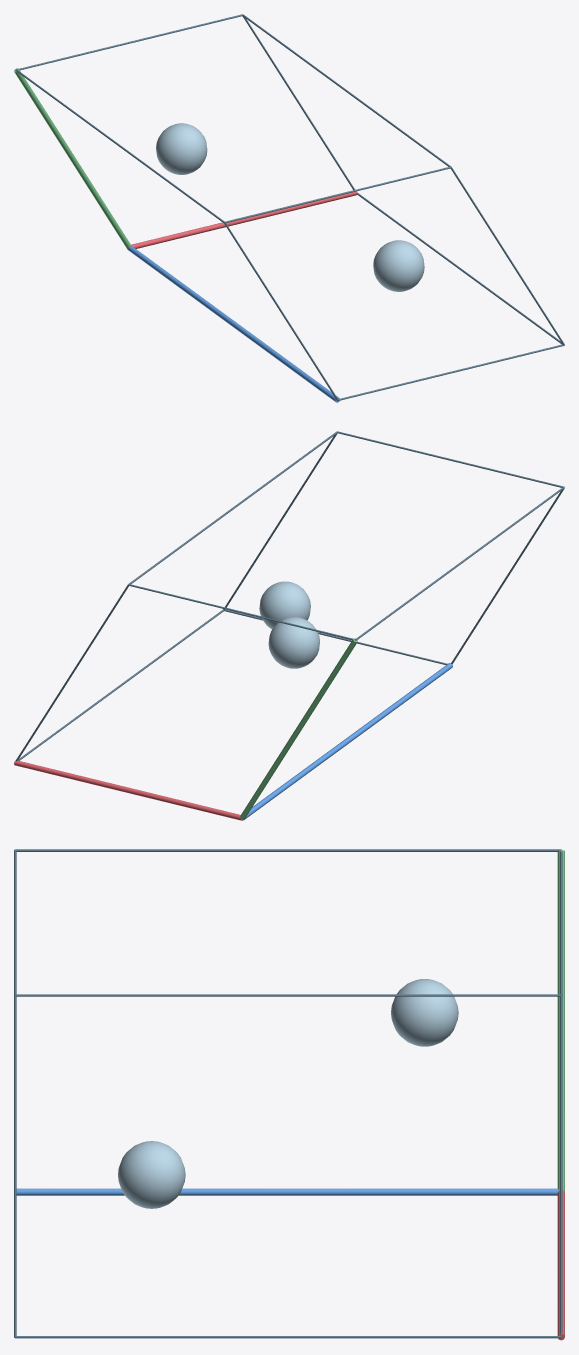
File: nguyen-to-zr.glb
3 views of the same model, one above another, from view 1: azimuth 30°, elevation 25°; view 2: azimuth 150°, elevation 25°; view 3: azimuth 270°, elevation 25° (orthographic). The views are drawn at different scales.
Visible parts, largest first — view 1: Ô mạng và các trục a, b, c, Zr · Zr · 1 (×2); view 2: Ô mạng và các trục a, b, c, Zr · Zr · 1 (×2); view 3: Ô mạng và các trục a, b, c, Zr · Zr · 1 (×2).
Boxes of the visible parts, <box> form: Ô mạng và các trục a, b, c: <box>14,14,564,402</box>; Zr · Zr · 1 (×2): <box>156,123,424,291</box>; Ô mạng và các trục a, b, c: <box>14,431,564,820</box>; Zr · Zr · 1 (×2): <box>259,581,319,668</box>; Ô mạng và các trục a, b, c: <box>14,849,564,1340</box>; Zr · Zr · 1 (×2): <box>118,979,458,1208</box>.
Bounding box in the file's own units: 4.89 × 2.85 × 5.19.
